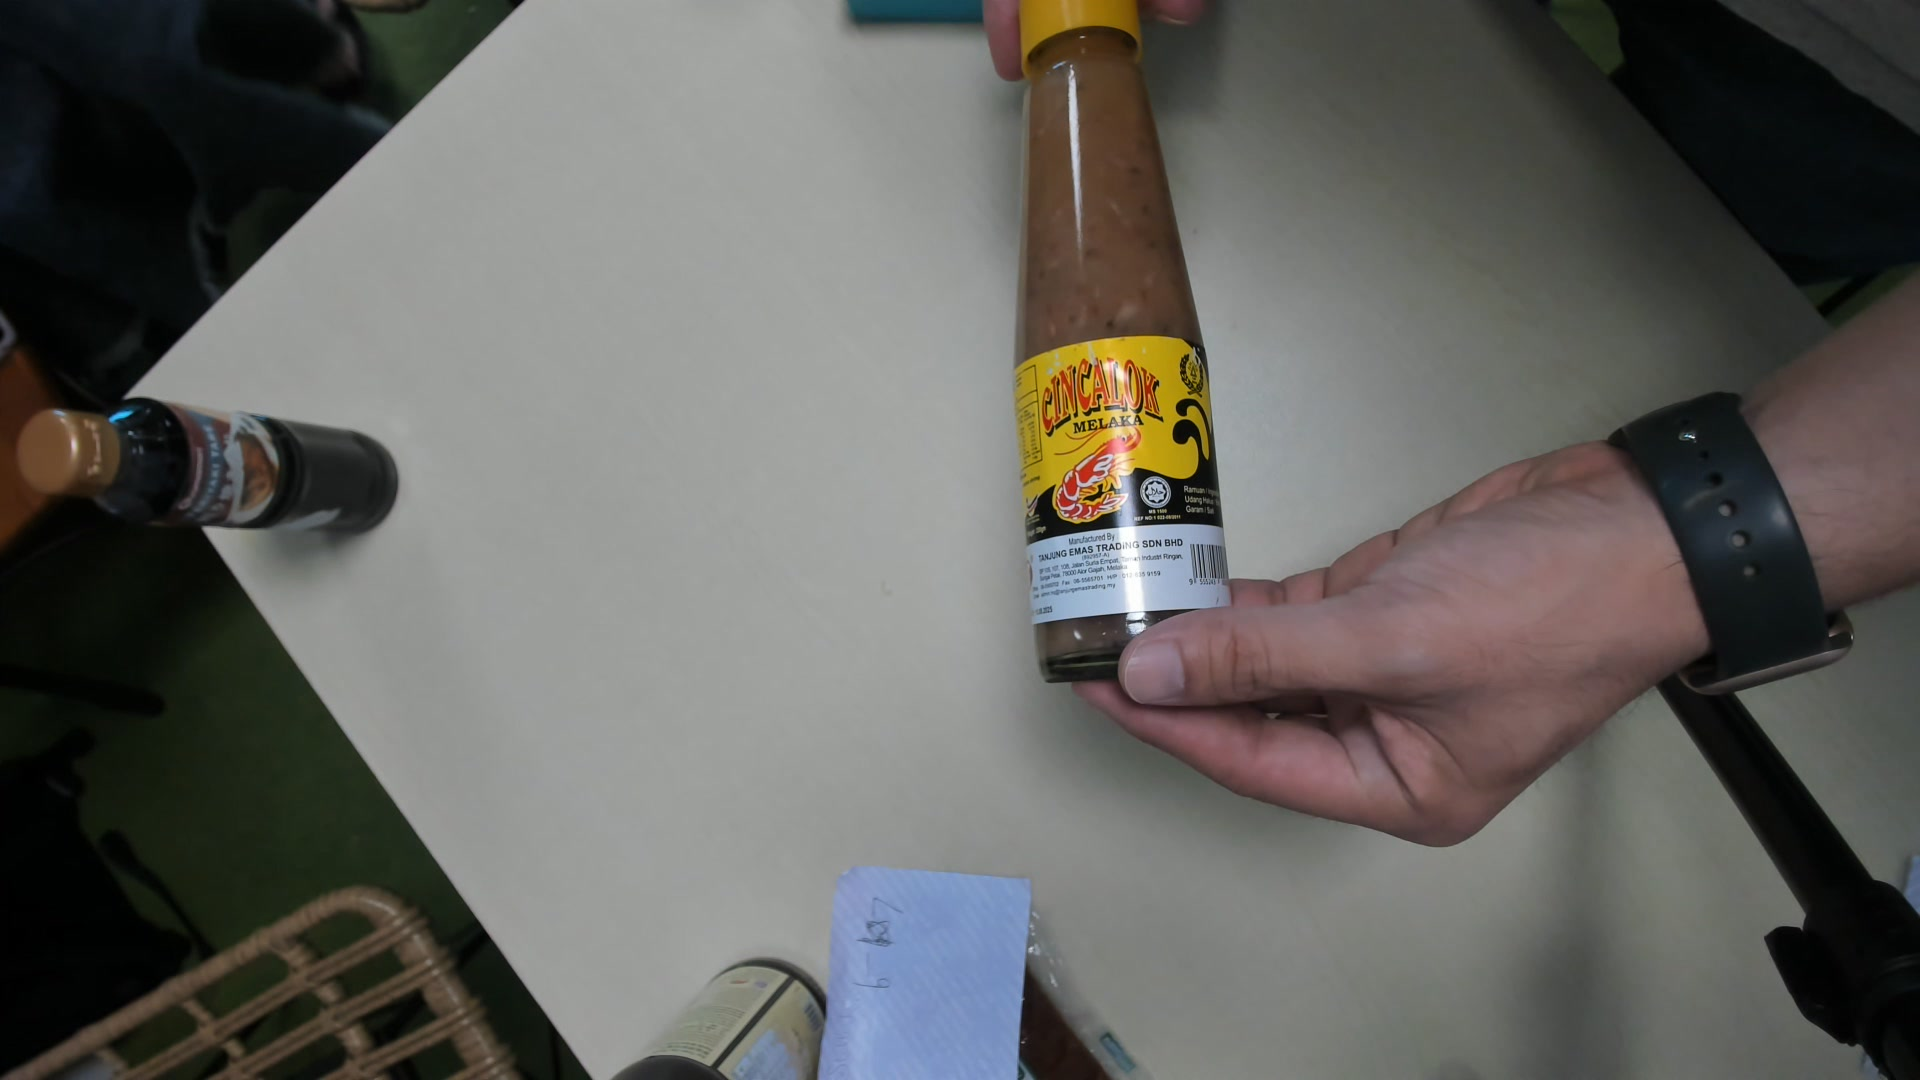OtherSauceDressingSoupbasePaste_200-299g_Halal_NonHealthy: (1007, 1, 1230, 680)
